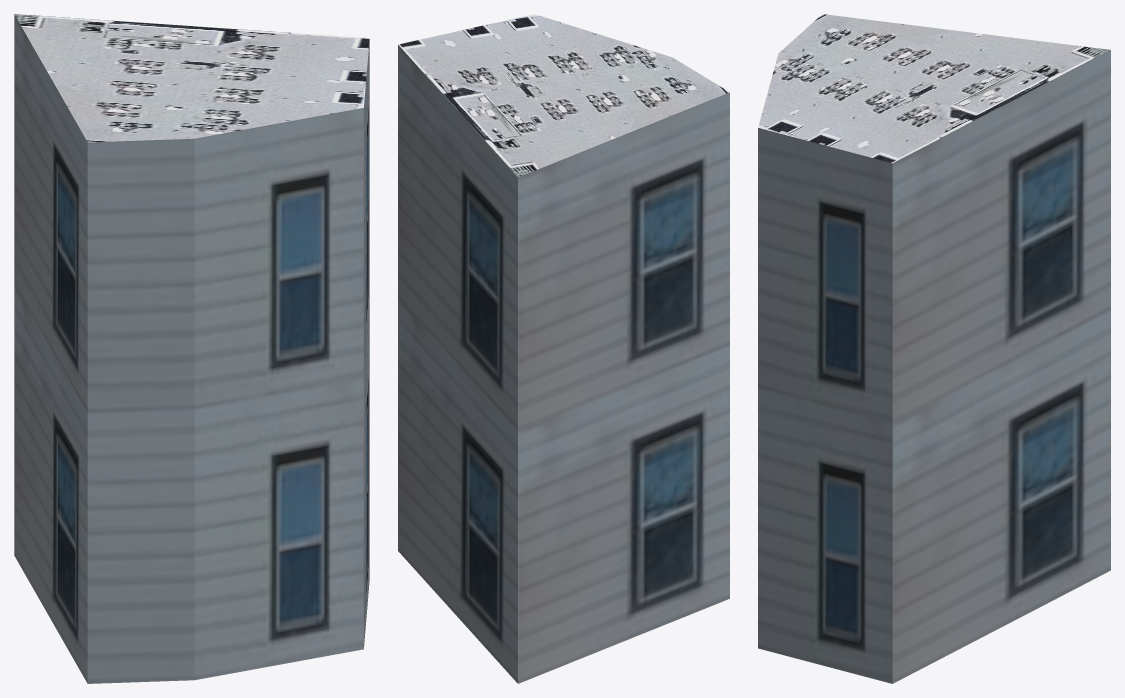
The model's file is ResTex__4004.fbx.
The picture shows the model from 3 angles, left to right: view 1: azimuth 30°, elevation 25°; view 2: azimuth 150°, elevation 25°; view 3: azimuth 270°, elevation 25°; orthographic projection. The views are drawn at different scales.
Visible parts, largest first — view 1: CityEngineMaterial_18_m, CityEngineMaterial_8_m; view 2: CityEngineMaterial_18_m, CityEngineMaterial_8_m; view 3: CityEngineMaterial_18_m, CityEngineMaterial_8_m.
Boxes of the visible parts, x1,y1,x2,y2 form: CityEngineMaterial_18_m: (14, 14, 369, 683); CityEngineMaterial_8_m: (14, 14, 369, 142); CityEngineMaterial_18_m: (398, 45, 729, 683); CityEngineMaterial_8_m: (398, 14, 729, 177); CityEngineMaterial_18_m: (758, 50, 1110, 683); CityEngineMaterial_8_m: (758, 14, 1109, 163).
Bounding box in the file's own units: 3.69 × 6 × 3.69.
2 materials, 2 textured.
